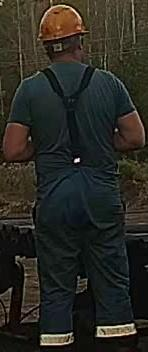helmet: (36, 3, 89, 41)
